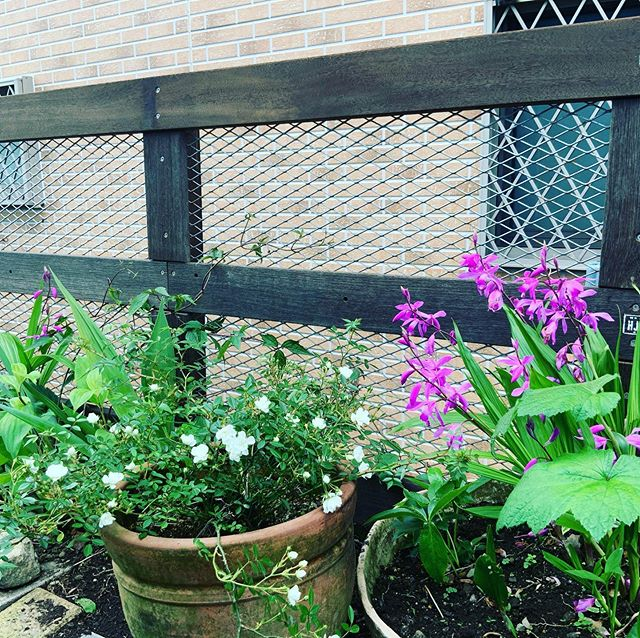flowers: (379, 244, 640, 583), (5, 375, 393, 546)
